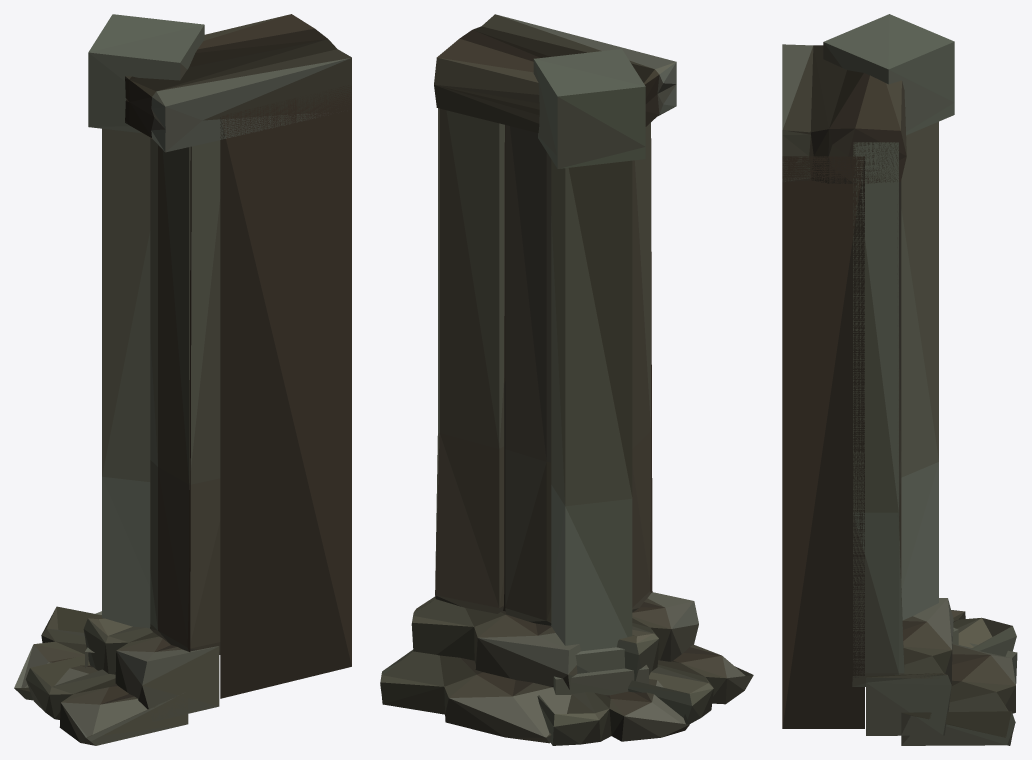
The model's file is wall_A_endcap_right.fbx.
3 renders of one model, left to right at view 1: azimuth 30°, elevation 25°; view 2: azimuth 150°, elevation 25°; view 3: azimuth 270°, elevation 25°, orthographic. The views are drawn at different scales.
Parts seen in each view (by area): view 1: wall_A_endcap_right; view 2: wall_A_endcap_right; view 3: wall_A_endcap_right.
Part boxes in pixels (<box>): wall_A_endcap_right: <box>14,14,351,745</box>; wall_A_endcap_right: <box>380,14,753,745</box>; wall_A_endcap_right: <box>782,14,1017,745</box>.
Bounding box in the file's own units: 2.82 × 6.43 × 2.17.
